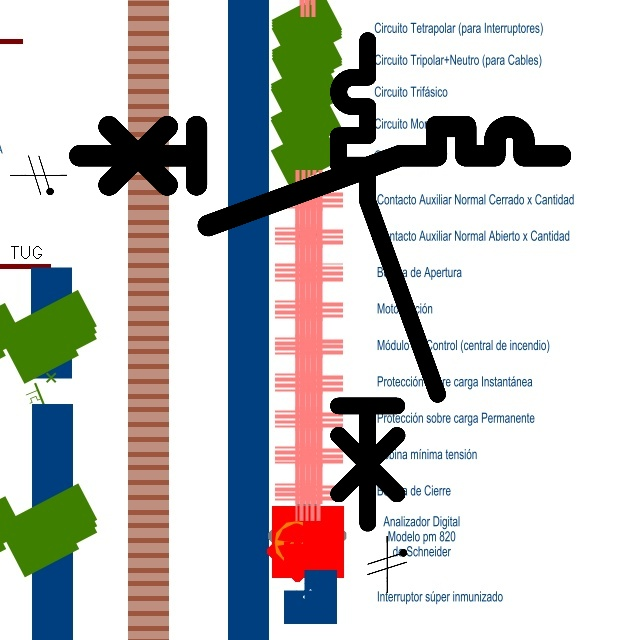interruptor_termomagnetico: (326, 28, 450, 535), (67, 114, 573, 238)
